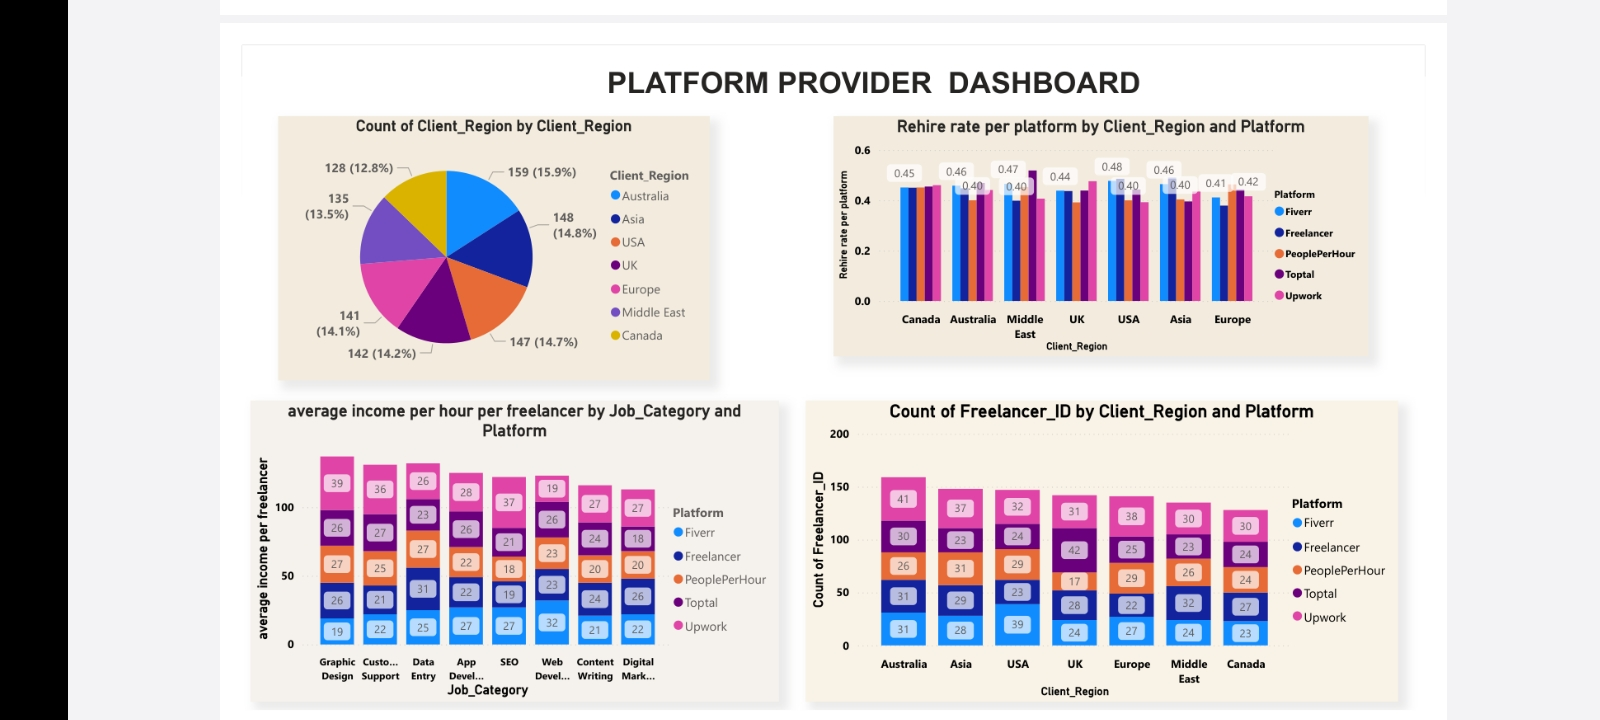

This screenshot's page, from the dashboard's own definition file:
{"tool":"powerbi","page":{"name":"Page 2","canvas":[1280,720],"ordinal":1},"visuals":[{"type":"textbox","box":[389.8,18.2,687,59.1],"z":0},{"type":"pieChart","title":"Count of Client_Region by Client_Region","fields":{"Y":["CountNonNull(FREELANCER REVIEWED 2.Client_Region)"],"Category":["FREELANCER REVIEWED 2.Client_Region"]},"box":[38.6,77.2,467.6,285.5],"z":1000},{"type":"lineClusteredColumnComboChart","fields":{"Category":["FREELANCER REVIEWED 2.Client_Region"],"Y":["FREELANCER REVIEWED 2.Rehire rate per platform"],"Series":["FREELANCER REVIEWED 2.Platform"]},"box":[640,77.2,579.3,259.3],"z":2001},{"type":"lineStackedColumnComboChart","title":"average income per hour per freelancer by Job_Category and Platform","fields":{"Category":["FREELANCER REVIEWED 2.Job_Category"],"Series":["FREELANCER REVIEWED 2.Platform"],"Y":["FREELANCER REVIEWED 2.average income per freelancer"]},"box":[9.1,385.2,571.8,326.1],"z":2002},{"type":"lineStackedColumnComboChart","fields":{"Category":["FREELANCER REVIEWED 2.Client_Region"],"Series":["FREELANCER REVIEWED 2.Platform"],"Y":["CountNonNull(FREELANCER REVIEWED 2.Freelancer_ID)"]},"box":[609.7,385.2,641.5,326.1],"z":2003}]}

Visuals, with their boxes on the page's 1280x720 design canvas (x1, y1, x2, y2). These are canvas units, not pixel positions in the 1600x720 screenshot, which may show the page scaled, cropped or inside an application window:
textbox: (390, 18, 1077, 77)
"Count of Client_Region by Client_Region" pieChart: (39, 77, 506, 363)
lineClusteredColumnComboChart - FREELANCER REVIEWED 2.Client_Region x FREELANCER REVIEWED 2.Rehire rate per platform: (640, 77, 1219, 336)
"average income per hour per freelancer by Job_Category and Platform" lineStackedColumnComboChart: (9, 385, 581, 711)
lineStackedColumnComboChart - FREELANCER REVIEWED 2.Client_Region x FREELANCER REVIEWED 2.Platform: (610, 385, 1251, 711)
